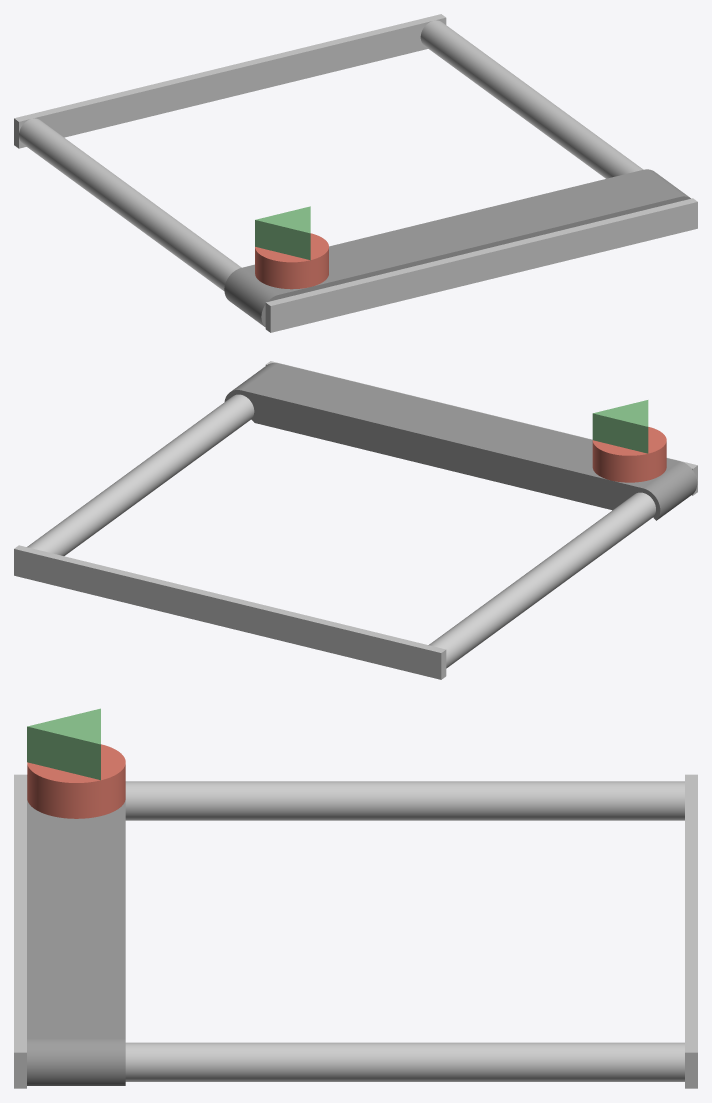
The model's file is unearther.glb.
3 views of the same model, one above another, from view 1: azimuth 30°, elevation 25°; view 2: azimuth 150°, elevation 25°; view 3: azimuth 270°, elevation 25° (orthographic). The views are drawn at different scales.
Visible parts, largest first — view 1: Test v1_Test v1_Körper1, Test v1_Test v1_Körper2, Test v1_Test v1_Körper3, Körper4; view 2: Test v1_Test v1_Körper1, Test v1_Test v1_Körper2, Test v1_Test v1_Körper3, Körper4; view 3: Test v1_Test v1_Körper1, Test v1_Test v1_Körper2, Test v1_Test v1_Körper3, Körper4.
Boxes of the visible parts, x1,y1,x2,y2 form: Test v1_Test v1_Körper1: (14, 14, 697, 332); Test v1_Test v1_Körper2: (224, 169, 690, 327); Test v1_Test v1_Körper3: (255, 233, 328, 289); Körper4: (255, 206, 310, 260); Test v1_Test v1_Körper1: (14, 361, 697, 679); Test v1_Test v1_Körper2: (224, 363, 697, 520); Test v1_Test v1_Körper3: (592, 427, 666, 482); Körper4: (592, 400, 648, 453); Test v1_Test v1_Körper1: (14, 774, 697, 1088); Test v1_Test v1_Körper2: (27, 775, 125, 1085); Test v1_Test v1_Körper3: (27, 744, 125, 818); Körper4: (27, 708, 100, 780).
Size of the model in its own units: 0.5099 by 0.095 by 0.52.
